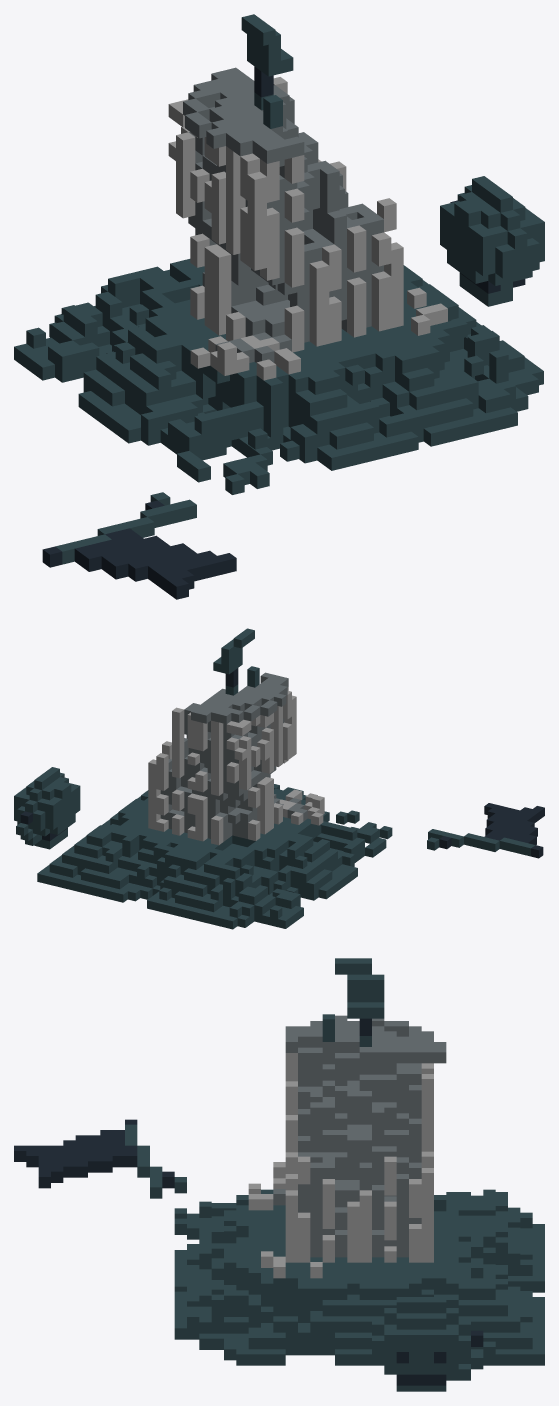
Rendered from statue_destroyed.obj.
3 views of the same model, one above another, from view 1: azimuth 30°, elevation 25°; view 2: azimuth 150°, elevation 25°; view 3: azimuth 270°, elevation 25° (orthographic). The views are drawn at different scales.
Bounding box in the file's own units: 5.2 × 2.8 × 4.3.
Materials: 1 (1 with a texture image).
